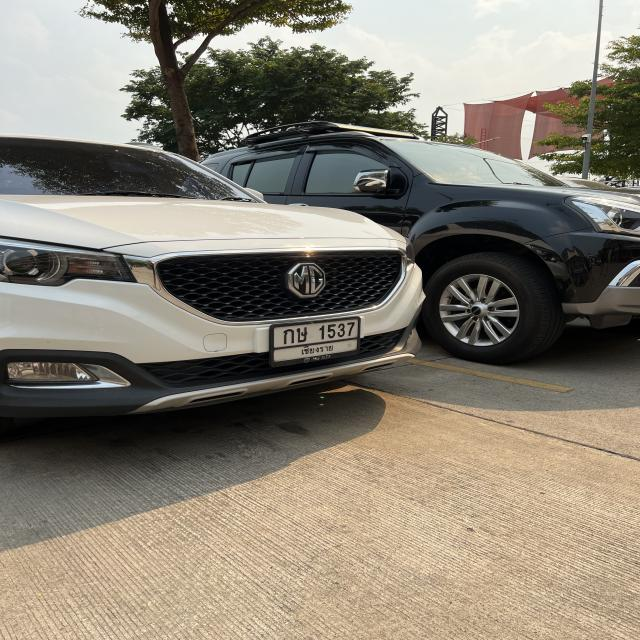license_plate: (269, 316, 361, 368)
